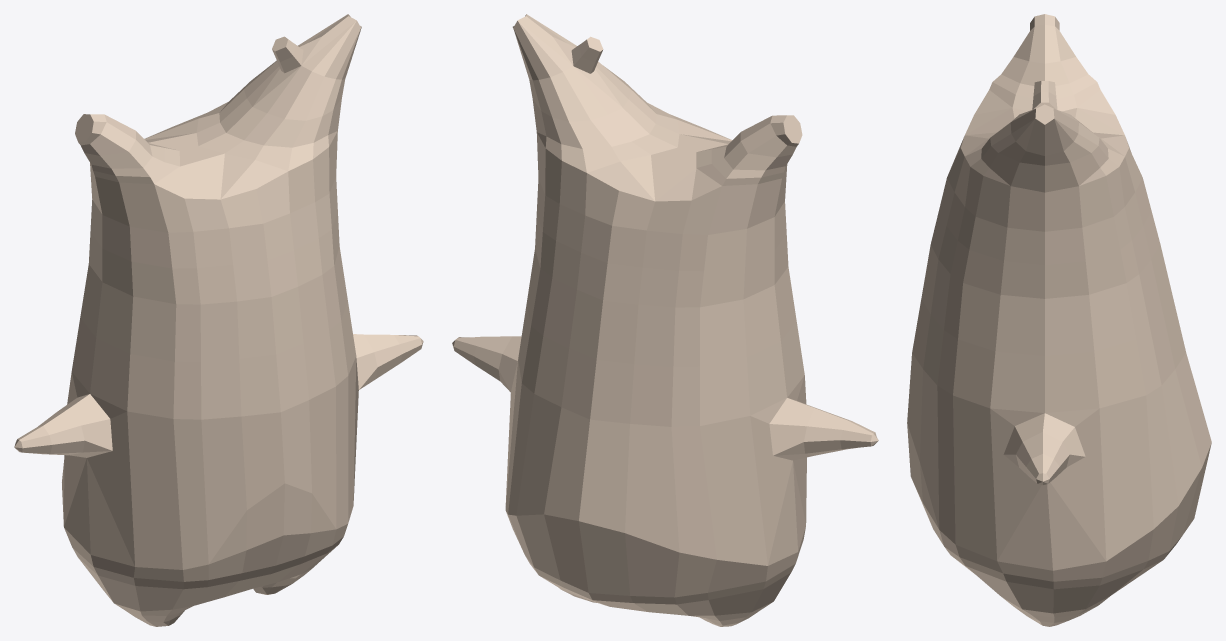
File: frame_0029.obj
The picture shows the model from 3 angles, left to right: view 1: azimuth 30°, elevation 25°; view 2: azimuth 150°, elevation 25°; view 3: azimuth 270°, elevation 25°; orthographic projection.
Visible parts, largest first — view 1: korok; view 2: korok; view 3: korok.
Boxes of the visible parts, x1,y1,x2,y2 form: korok: [14, 14, 423, 626]; korok: [452, 14, 878, 626]; korok: [907, 14, 1211, 626].
Size of the model in its own units: 1.68 by 2.16 by 1.07.
